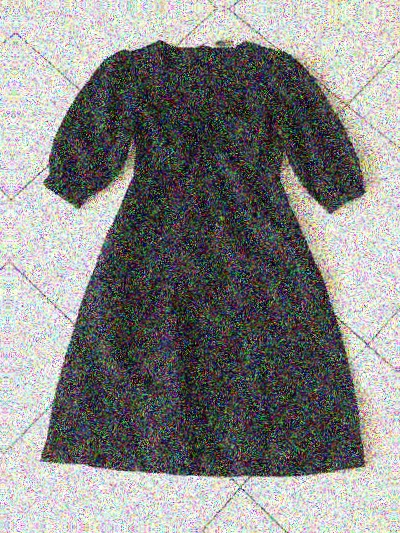Dress: (19, 26, 393, 506)
